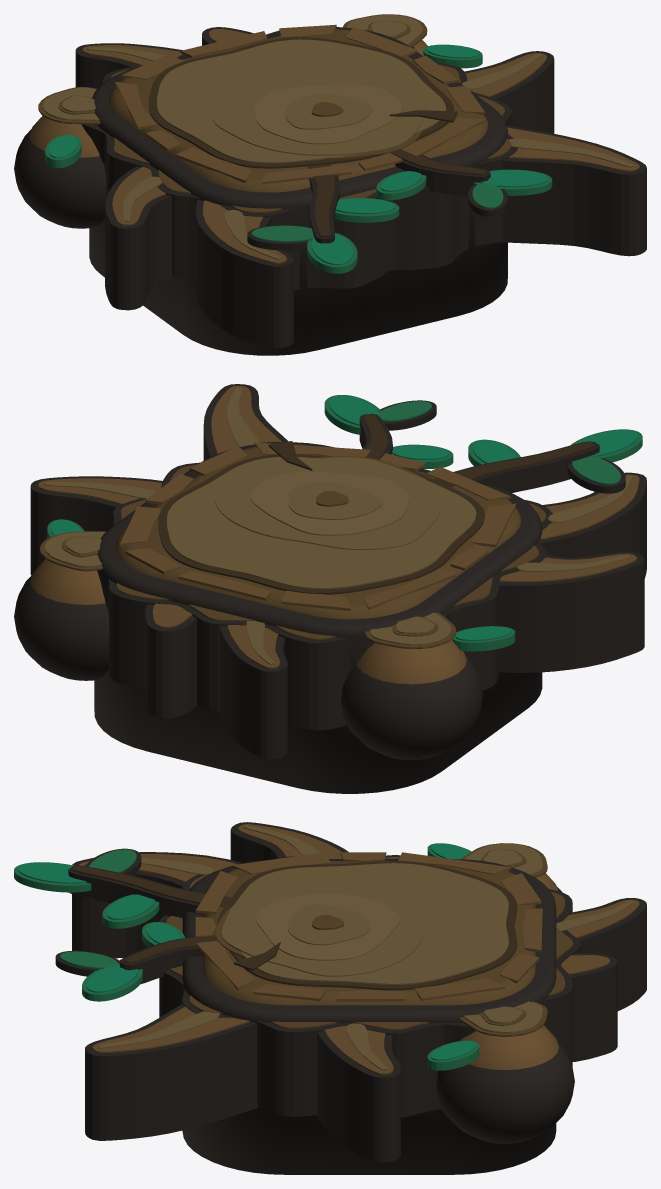
File: body_toco.fbx
The picture shows the model from 3 angles, top to bottom: view 1: azimuth 30°, elevation 25°; view 2: azimuth 150°, elevation 25°; view 3: azimuth 270°, elevation 25°; orthographic projection. The views are drawn at different scales.
Visible parts, largest first — view 1: body_toco_corpo, body_toco, body_toco_mao_esq, body_toco_anim_broto_esq, body_toco_anim_broto_dir, body_toco_mao; view 2: body_toco_corpo, body_toco, body_toco_mao_esq, body_toco_mao, body_toco_anim_broto_esq, body_toco_anim_broto_dir; view 3: body_toco_corpo, body_toco, body_toco_mao, body_toco_anim_broto_esq, body_toco_anim_broto_dir, body_toco_mao_esq.
Boxes of the visible parts, left/top/right/bottom form: body_toco_corpo: left=81, top=24, right=517, bottom=355; body_toco: left=75, top=27, right=646, bottom=348; body_toco_mao_esq: left=14, top=87, right=106, bottom=228; body_toco_anim_broto_esq: left=247, top=163, right=399, bottom=273; body_toco_anim_broto_dir: left=376, top=149, right=552, bottom=216; body_toco_mao: left=343, top=14, right=482, bottom=68; body_toco_corpo: left=94, top=441, right=552, bottom=793; body_toco: left=30, top=384, right=646, bottom=758; body_toco_mao_esq: left=340, top=612, right=515, bottom=760; body_toco_mao: left=14, top=519, right=109, bottom=680; body_toco_anim_broto_esq: left=434, top=429, right=642, bottom=493; body_toco_anim_broto_dir: left=324, top=395, right=453, bottom=468; body_toco_corpo: left=159, top=852, right=580, bottom=1174; body_toco: left=72, top=822, right=646, bottom=1162; body_toco_mao: left=427, top=1001, right=574, bottom=1143; body_toco_anim_broto_esq: left=14, top=848, right=231, bottom=928; body_toco_anim_broto_dir: left=55, top=922, right=217, bottom=1001; body_toco_mao_esq: left=427, top=843, right=562, bottom=892.
Size of the model in its own units: 6.47 by 2.11 by 6.77.
1 material, 1 textured.
